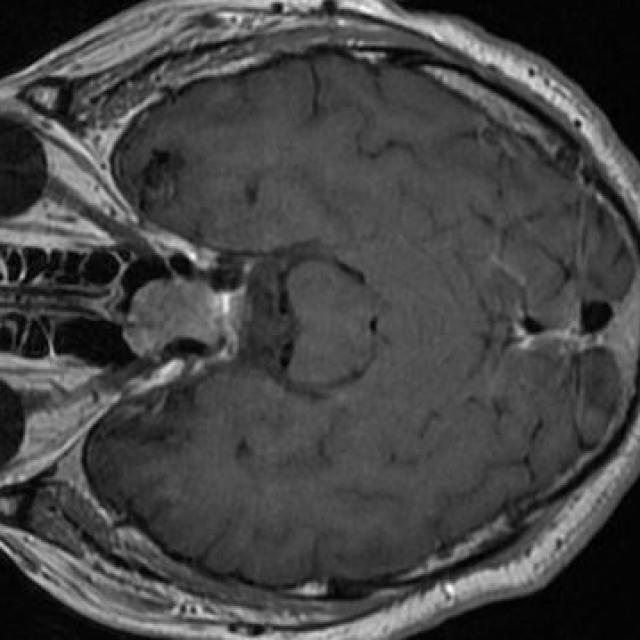pituitary: (123, 282, 228, 358)
